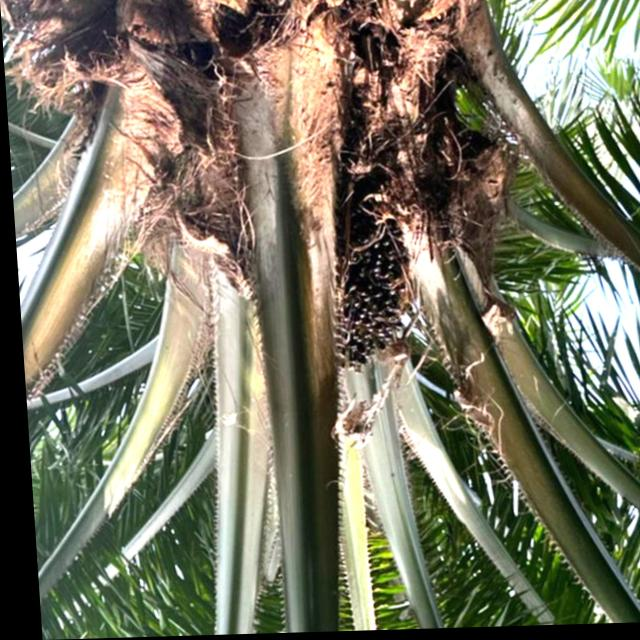almost: (304, 183, 425, 388)
